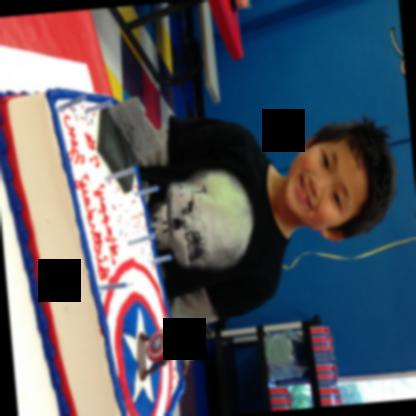handbag: (262, 332, 305, 379)
